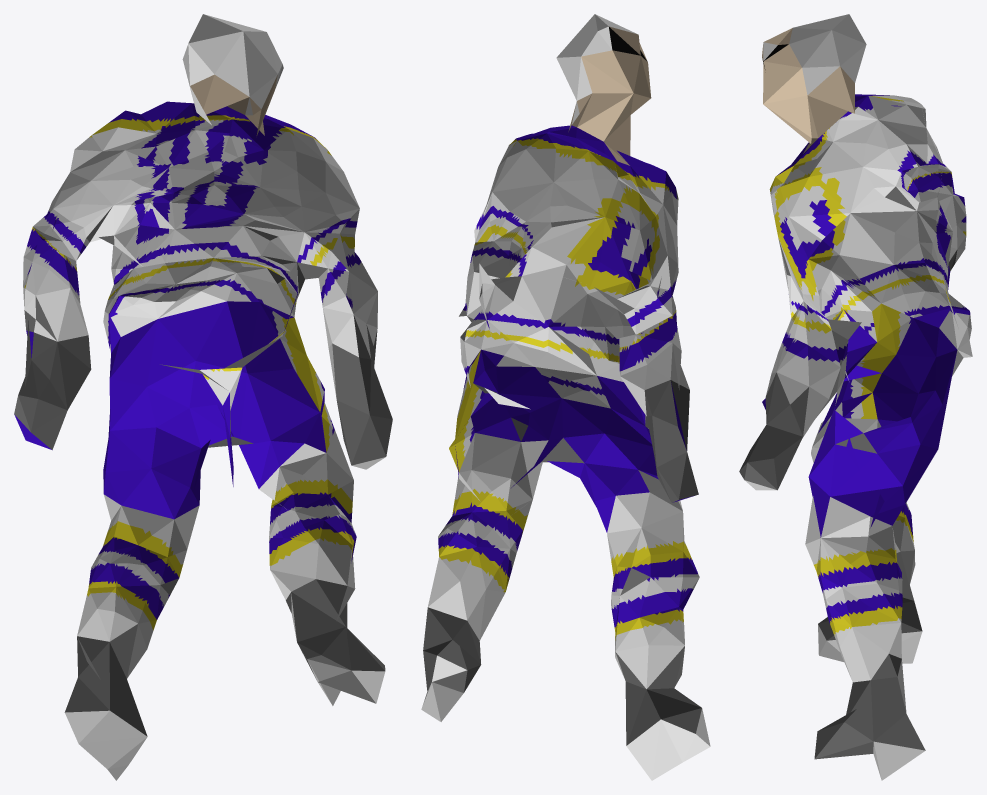
File: nhl96pc_buffalo_player_clean.glb
The picture shows the model from 3 angles, left to right: view 1: azimuth 30°, elevation 25°; view 2: azimuth 150°, elevation 25°; view 3: azimuth 270°, elevation 25°; orthographic projection. The views are drawn at different scales.
Parts seen in each view (by area): view 1: geometry_0; view 2: geometry_0; view 3: geometry_0.
Boxes of the visible parts, left/top/right/bottom form: geometry_0: left=14, top=14, right=392, bottom=780; geometry_0: left=421, top=14, right=710, bottom=780; geometry_0: left=739, top=14, right=972, bottom=780.
Size of the model in its own units: 26.26 by 58.57 by 17.73.
